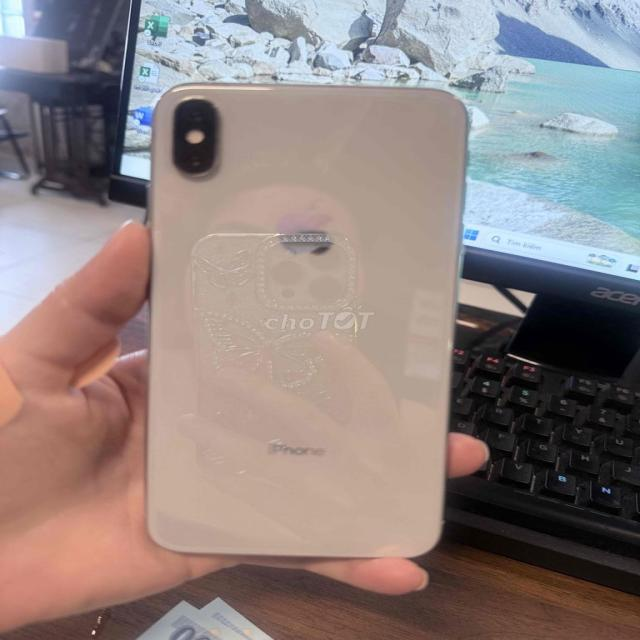gen_x_xs: (128, 78, 477, 585)
